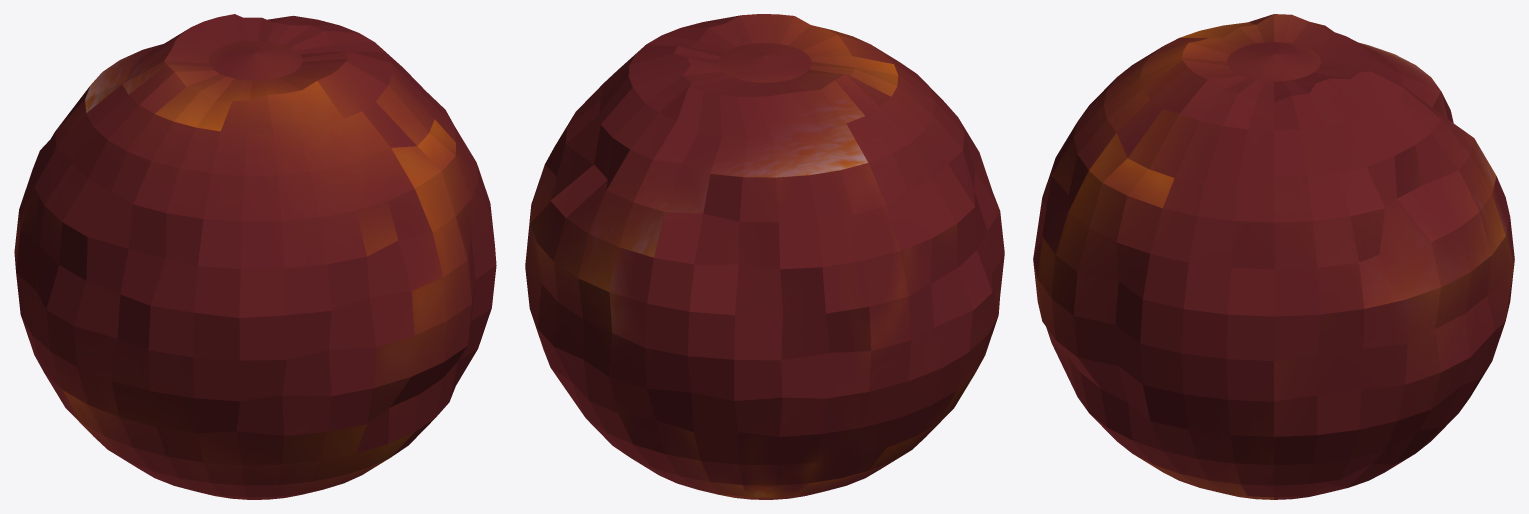
File: BakedOrange.fbx
The picture shows the model from 3 angles, left to right: view 1: azimuth 30°, elevation 25°; view 2: azimuth 150°, elevation 25°; view 3: azimuth 270°, elevation 25°; orthographic projection.
Parts seen in each view (by area): view 1: Body; view 2: Body; view 3: Body.
Part boxes in pixels (x1,y1,x2,y2): Body: (14,14,496,499); Body: (525,14,1004,499); Body: (1033,14,1514,499).
Bounding box in the file's own units: 0.4 × 0.4 × 0.3809.
1 material, 1 textured.
